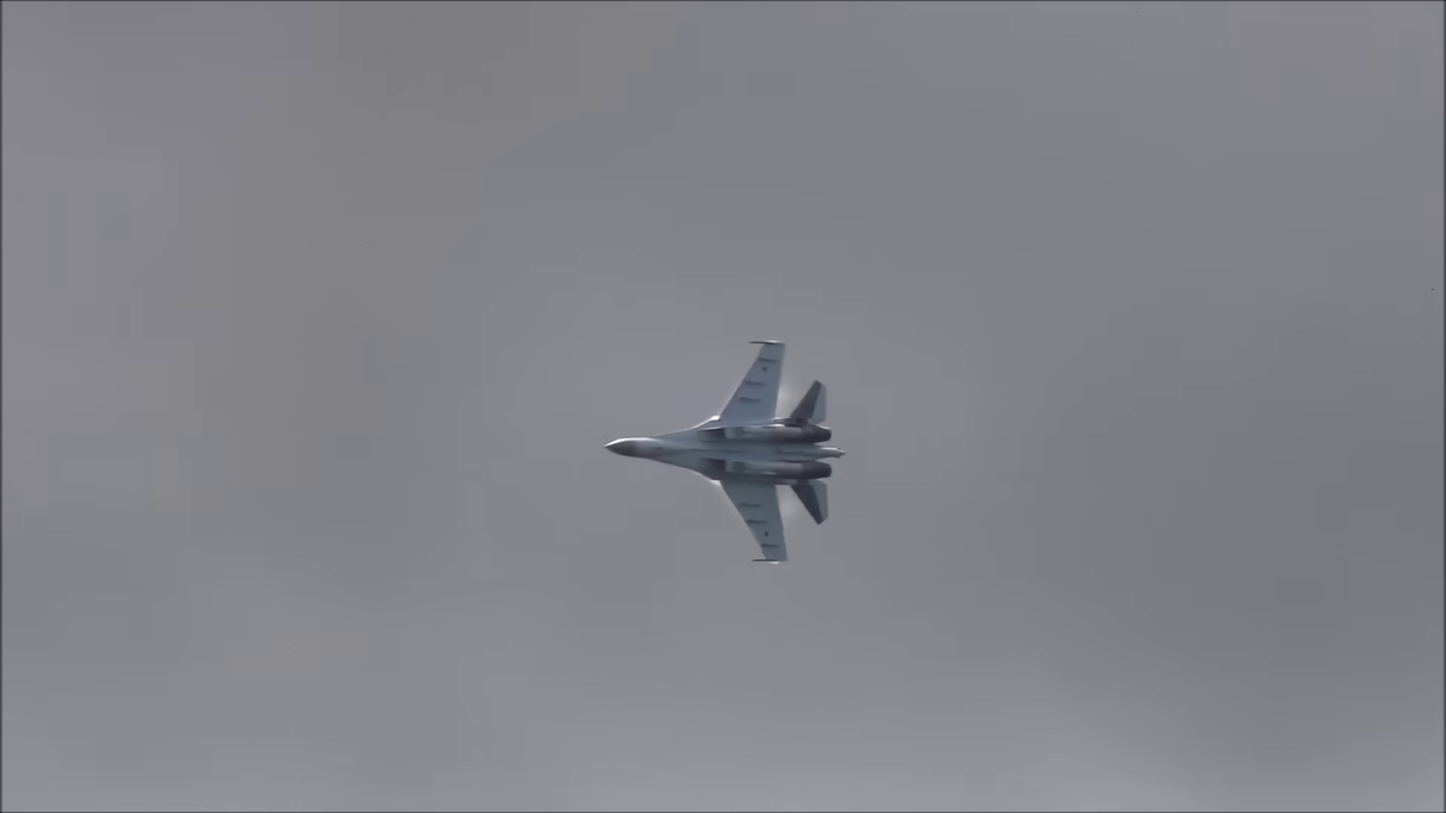Su35: (599, 331, 857, 575)
